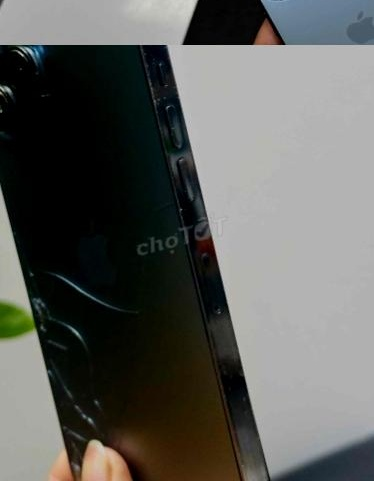physical_damage: (0, 213, 192, 481)
scratch: (109, 45, 224, 283)
